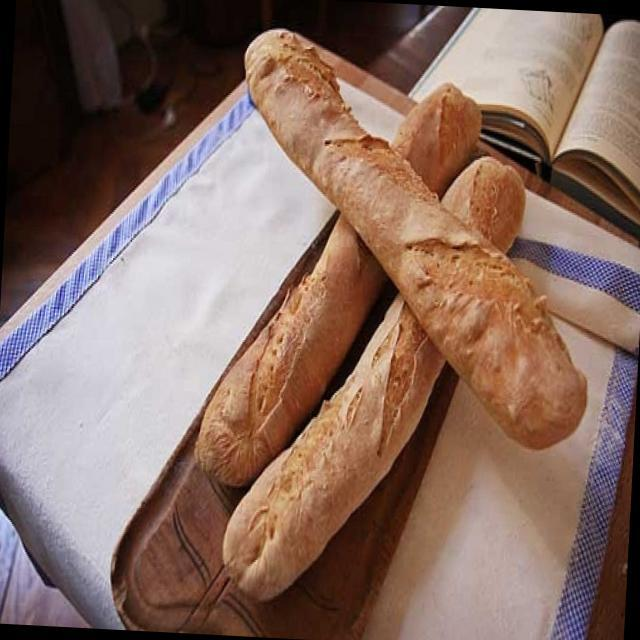Bread: (202, 34, 606, 496)
